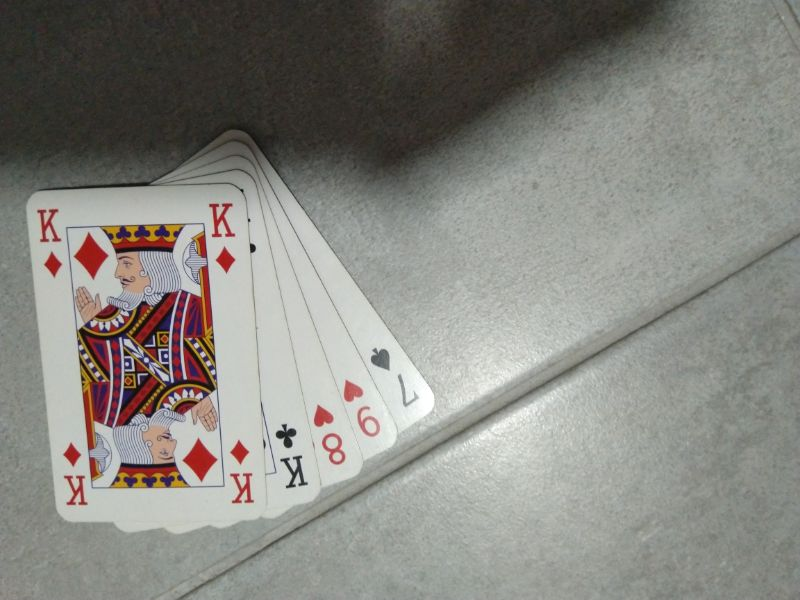7s: (360, 340, 433, 418)
8h: (304, 400, 354, 476)
9h: (337, 375, 390, 445)
Kc: (266, 415, 317, 497)
Kd: (27, 201, 78, 284), (202, 194, 245, 278), (54, 433, 97, 514), (221, 434, 264, 512)
